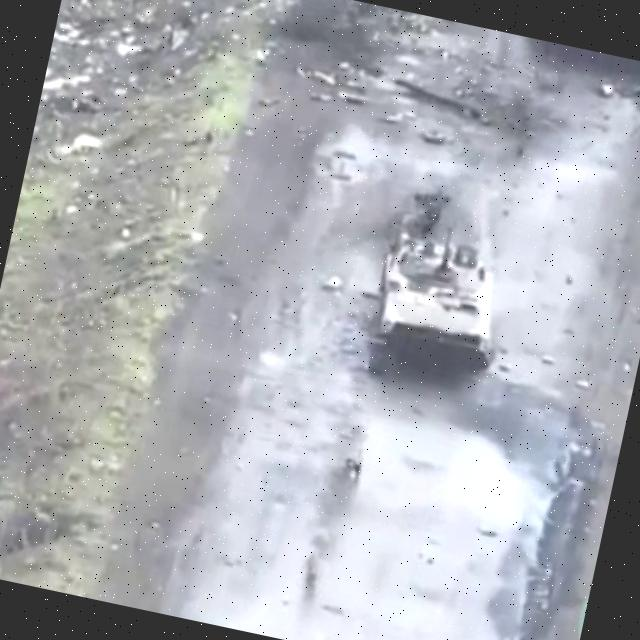AIFV: (368, 207, 520, 382)
